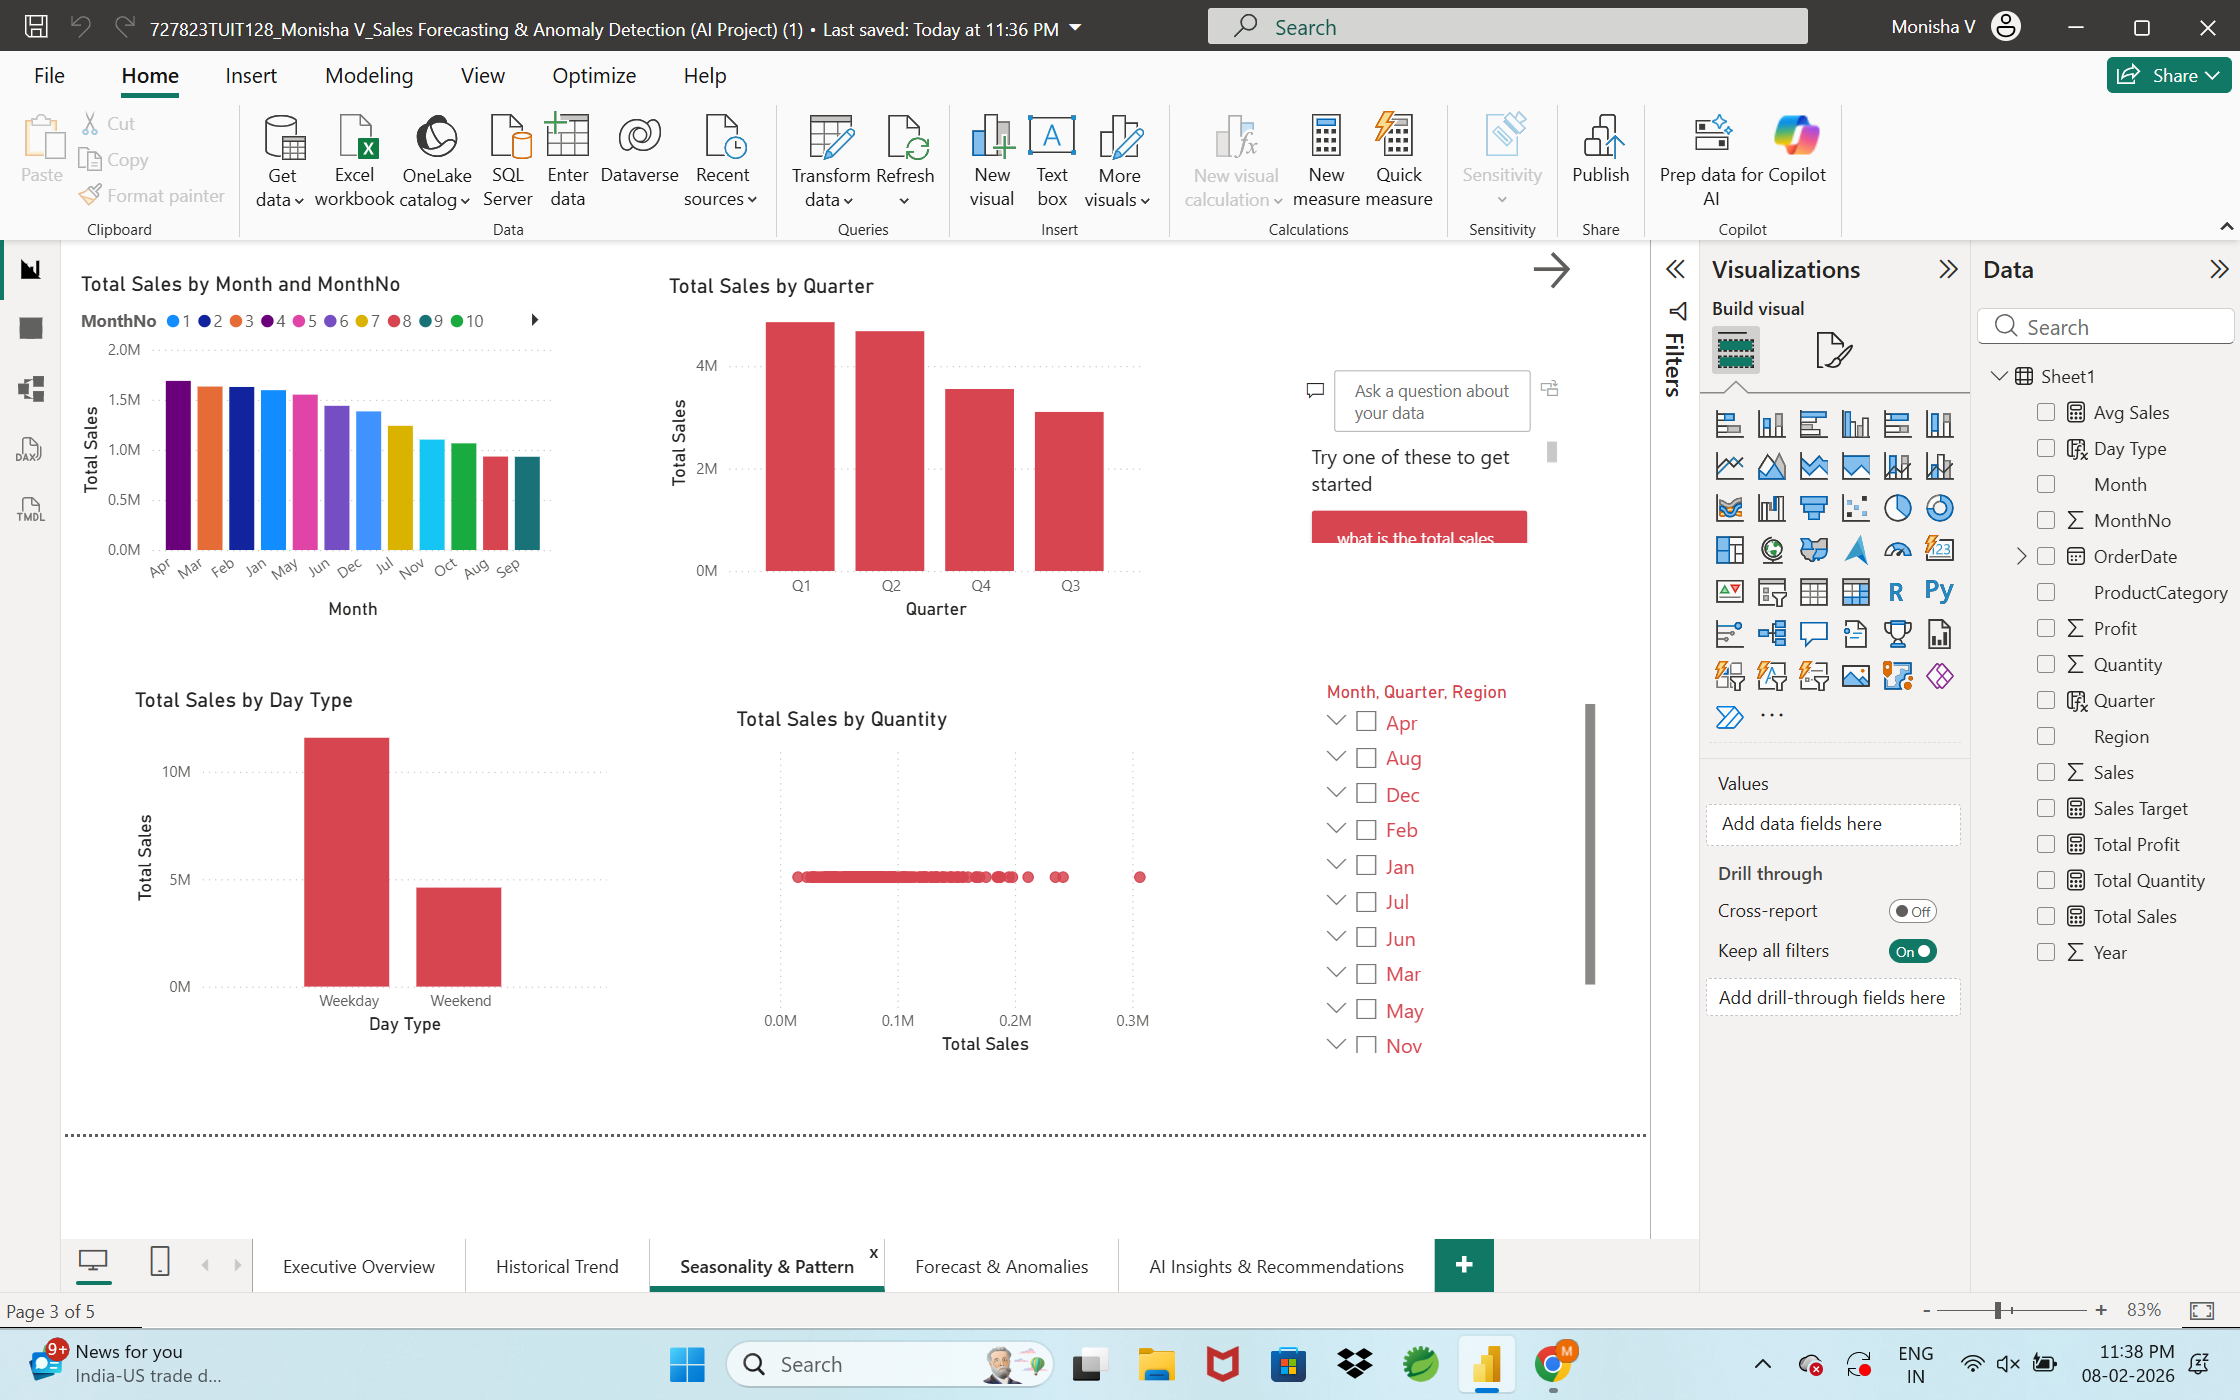

Layout of this report page (visuals, bound fields, positions):
{"tool":"powerbi","page":{"name":"Seasonality & Pattern","canvas":[1280,720],"ordinal":2},"visuals":[{"type":"columnChart","fields":{"Category":["Sheet1.Month"],"Y":["Sheet1.Total Sales"],"Series":["Sheet1.MonthNo"]},"box":[10.5,24.9,390,284],"z":0},{"type":"columnChart","fields":{"Category":["Sheet1.Quarter"],"Y":["Sheet1.Total Sales"]},"box":[484.3,26.2,391.4,282.7],"z":1000},{"type":"qnaVisual","box":[994.7,79.8,219.9,172.8],"z":2000},{"type":"columnChart","fields":{"Category":["Sheet1.Day Type"],"Y":["Sheet1.Total Sales"]},"box":[55,359.9,390,284],"z":3000},{"type":"scatterChart","fields":{"Category":["Sheet1.Quantity"],"X":["Sheet1.Total Sales"]},"box":[539.3,375.6,390,284],"z":4000},{"type":"slicer","fields":{"Values":["Sheet1.Month","Sheet1.Quarter","Sheet1.Region"]},"box":[1006.5,350.8,234.3,308.9],"z":5000},{"type":"actionButton","box":[1180.6,5.2,70.7,39.3],"z":6000}]}

Visuals, with their boxes on the page's 1280x720 design canvas (x1, y1, x2, y2). These are canvas units, not pixel positions in the 2240x1400 screenshot, which may show the page scaled, cropped or inside an application window:
columnChart - Sheet1.Month x Sheet1.Total Sales: [left=10, top=25, right=400, bottom=309]
columnChart - Sheet1.Quarter x Sheet1.Total Sales: [left=484, top=26, right=876, bottom=309]
qnaVisual: [left=995, top=80, right=1215, bottom=253]
columnChart - Sheet1.Day Type x Sheet1.Total Sales: [left=55, top=360, right=445, bottom=644]
scatterChart - Sheet1.Quantity x Sheet1.Total Sales: [left=539, top=376, right=929, bottom=660]
slicer - Sheet1.Month x Sheet1.Quarter: [left=1006, top=351, right=1241, bottom=660]
actionButton: [left=1181, top=5, right=1251, bottom=44]
